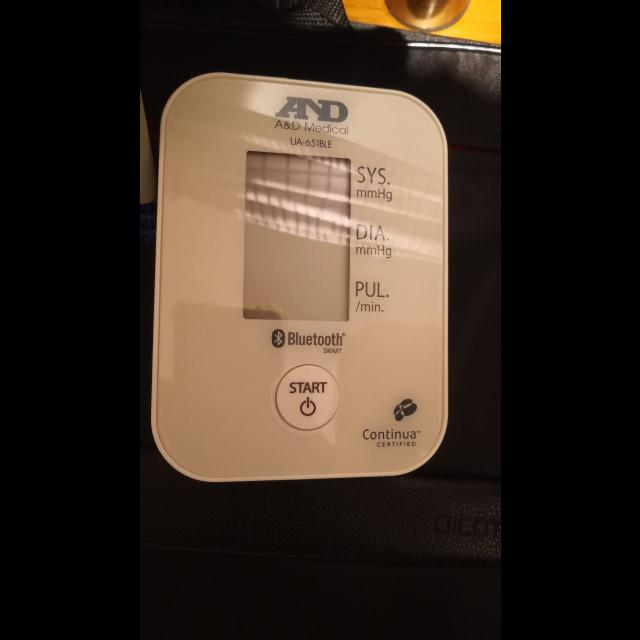Blood-Pressure-Monitor: (150, 72, 448, 480)
